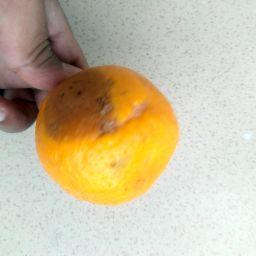Unripe: (35, 66, 179, 204)
